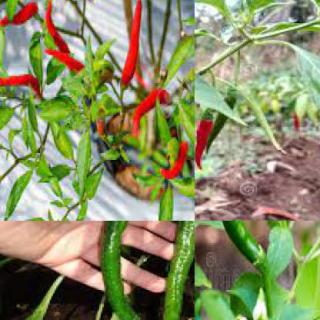green_chilli: (102, 221, 164, 319), (150, 221, 194, 319), (195, 221, 267, 271), (203, 93, 243, 155), (49, 121, 75, 164), (36, 100, 76, 118), (157, 189, 175, 220)
